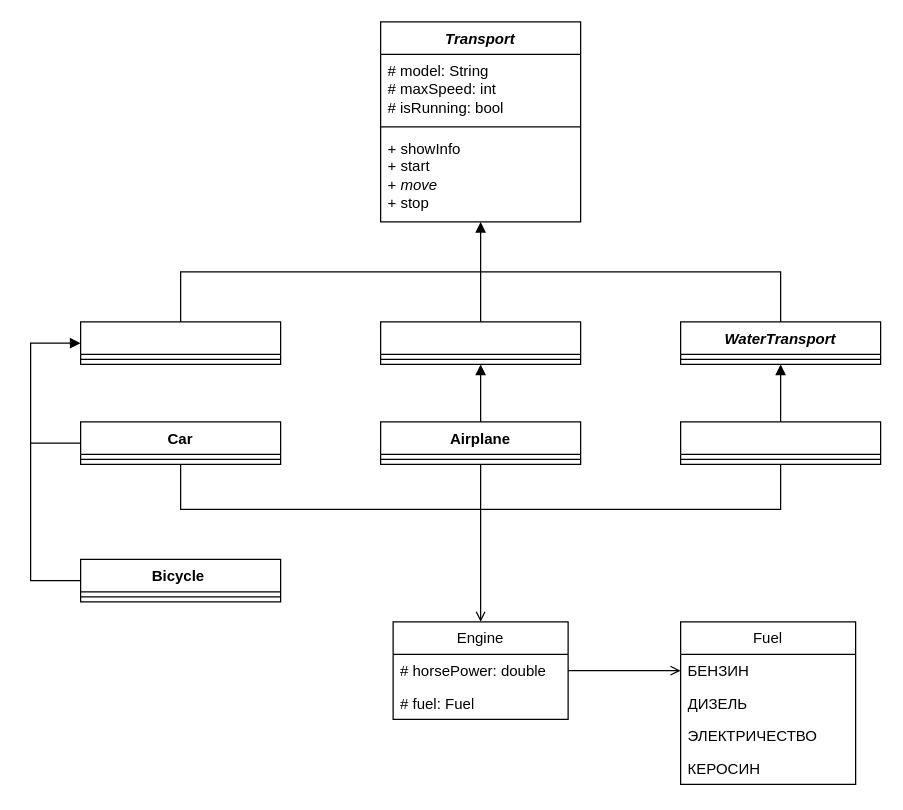
The diagram is 903 pixels wide and 810 high, and some of its shapes have lost their labels. Each missing label, with the centre of its shape:
"AirTransport" belongs at pixel 480 342.
"LandTransport" belongs at pixel 180 342.
"Ship" belongs at pixel 780 442.
